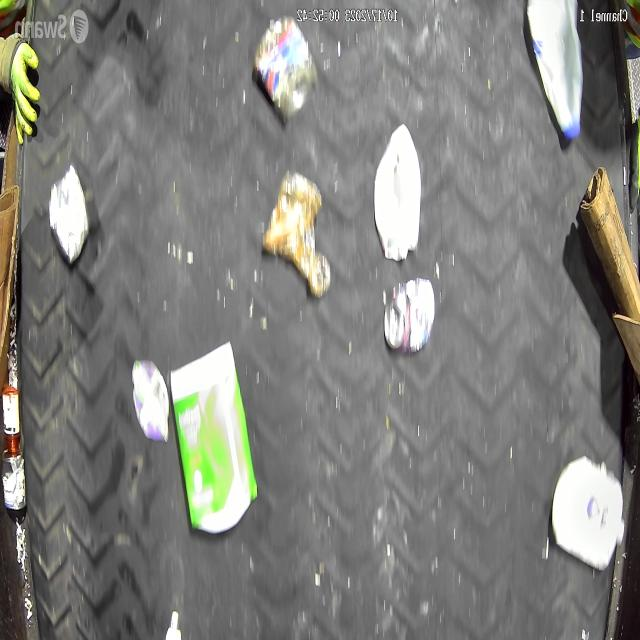can: (382, 277, 436, 356), (0, 449, 27, 509)
milk_jug: (528, 0, 583, 139)
